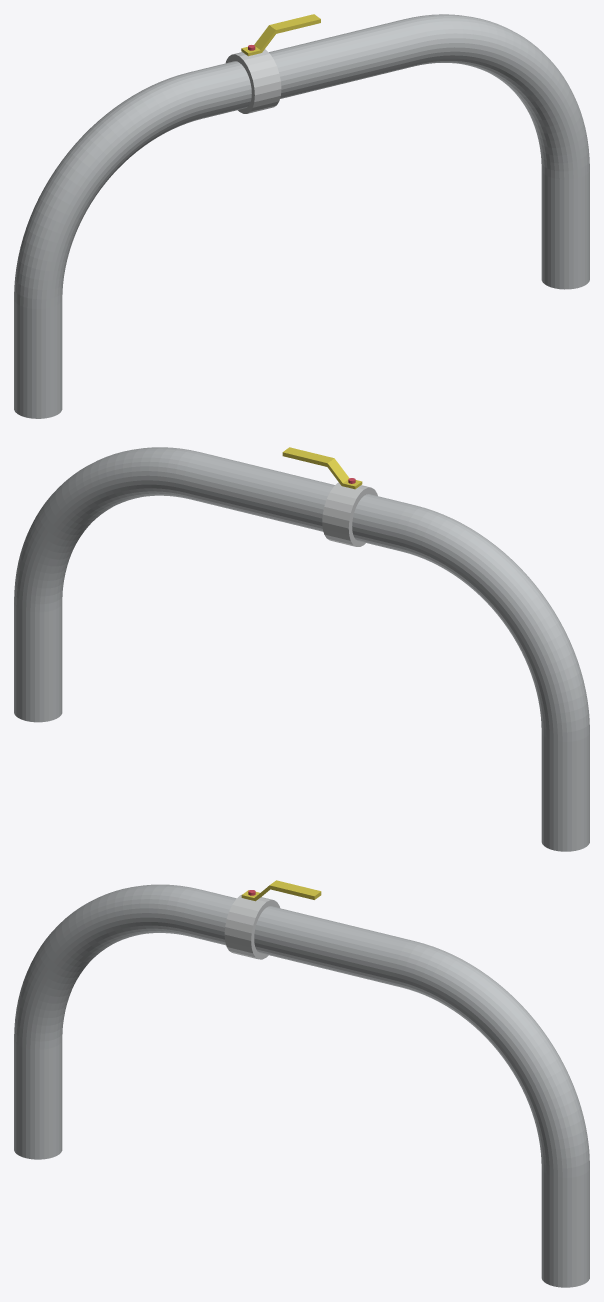
Rendered from Water shutoff valve-180.glb.
3 renders of one model, top to bottom at view 1: azimuth 30°, elevation 25°; view 2: azimuth 150°, elevation 25°; view 3: azimuth 330°, elevation 25°, orthographic.
Visible parts, largest first — view 1: Mesh_Mesh_head_geo.001_lambert2SG.001; view 2: Mesh_Mesh_head_geo.001_lambert2SG.001; view 3: Mesh_Mesh_head_geo.001_lambert2SG.001.
Part boxes in pixels (x1,y1,x2,y2): Mesh_Mesh_head_geo.001_lambert2SG.001: (14, 14, 589, 418); Mesh_Mesh_head_geo.001_lambert2SG.001: (14, 447, 589, 851); Mesh_Mesh_head_geo.001_lambert2SG.001: (14, 880, 589, 1287).
Size of the model in its own units: 271 by 147 by 25.3.
